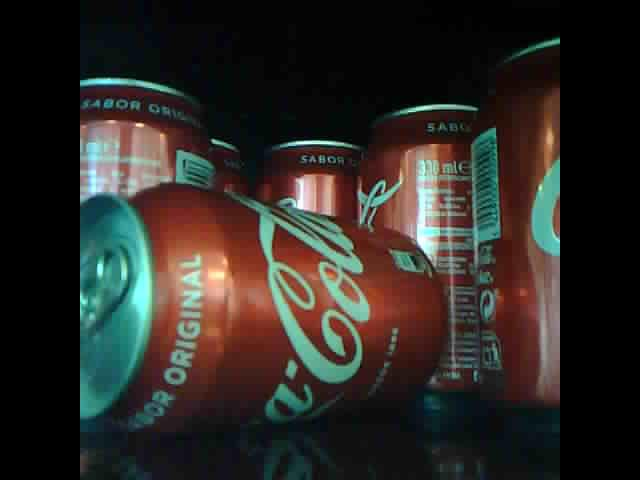coca cola: (80, 179, 450, 437), (358, 102, 480, 398), (481, 29, 558, 412), (82, 73, 215, 203), (257, 140, 361, 221), (211, 136, 246, 198)
